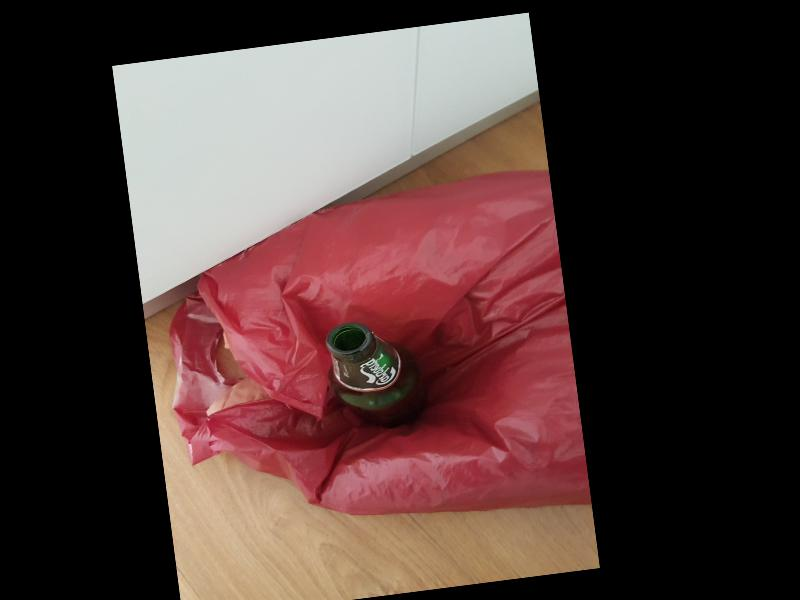Beer: (324, 315, 426, 435)
